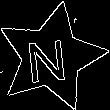N_N: (28, 30, 74, 84)
